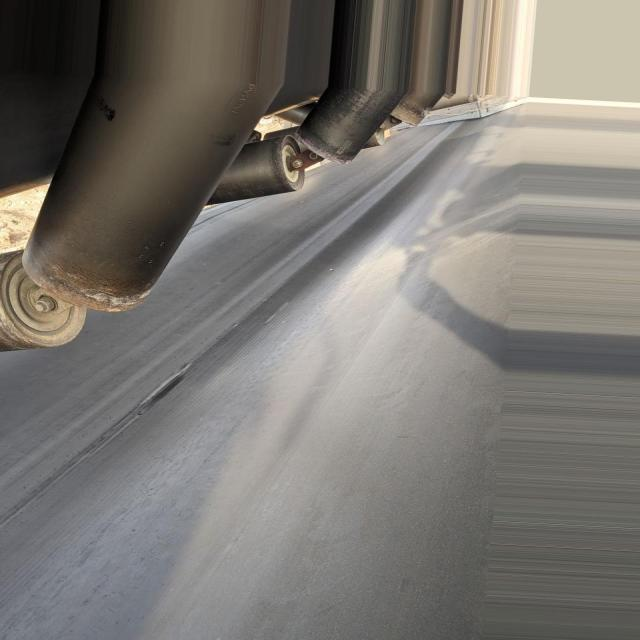Roller: (20, 68, 282, 312), (0, 250, 96, 357), (204, 132, 304, 208), (302, 92, 391, 163)
impact damage: (120, 373, 187, 420)
